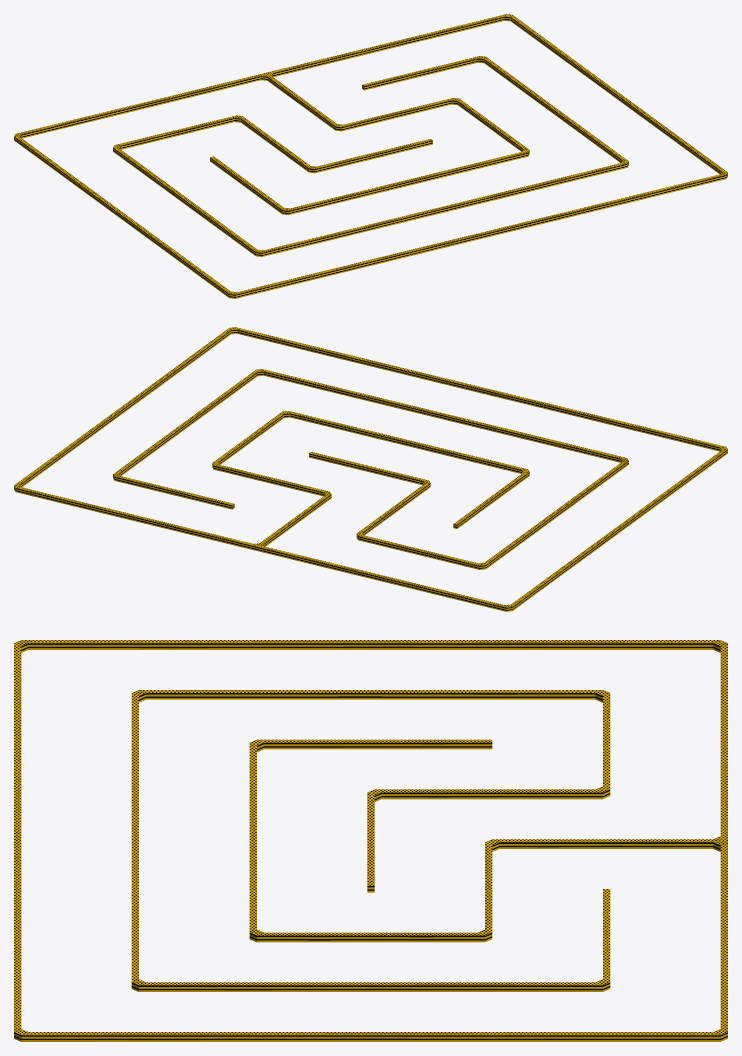
The model's file is Circle Track M.fbx.
3 renders of one model, top to bottom at view 1: azimuth 30°, elevation 25°; view 2: azimuth 150°, elevation 25°; view 3: azimuth 270°, elevation 25°, orthographic. The views are drawn at different scales.
Parts seen in each view (by area): view 1: Circle_Track_M; view 2: Circle_Track_M; view 3: Circle_Track_M.
Boxes of the visible parts, bbox=[...] form: Circle_Track_M: bbox=[14, 14, 727, 298]; Circle_Track_M: bbox=[14, 327, 727, 611]; Circle_Track_M: bbox=[14, 640, 727, 1041].
Bounding box in the file's own units: 12700 × 100 × 9700.
